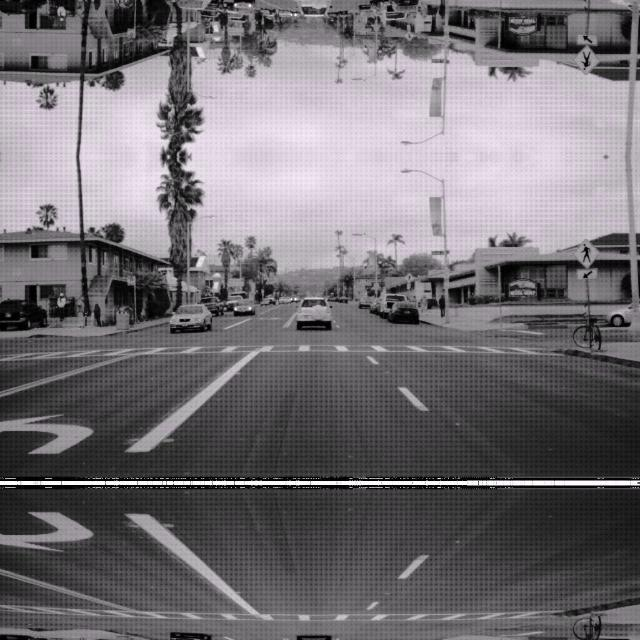pedestrianCrossing: (572, 236, 600, 266), (572, 46, 600, 76)
